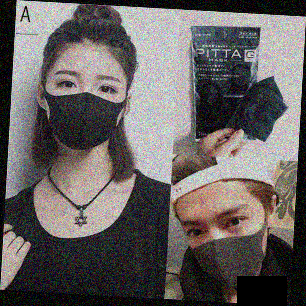with_mask: (177, 201, 268, 295), (42, 67, 127, 154)
